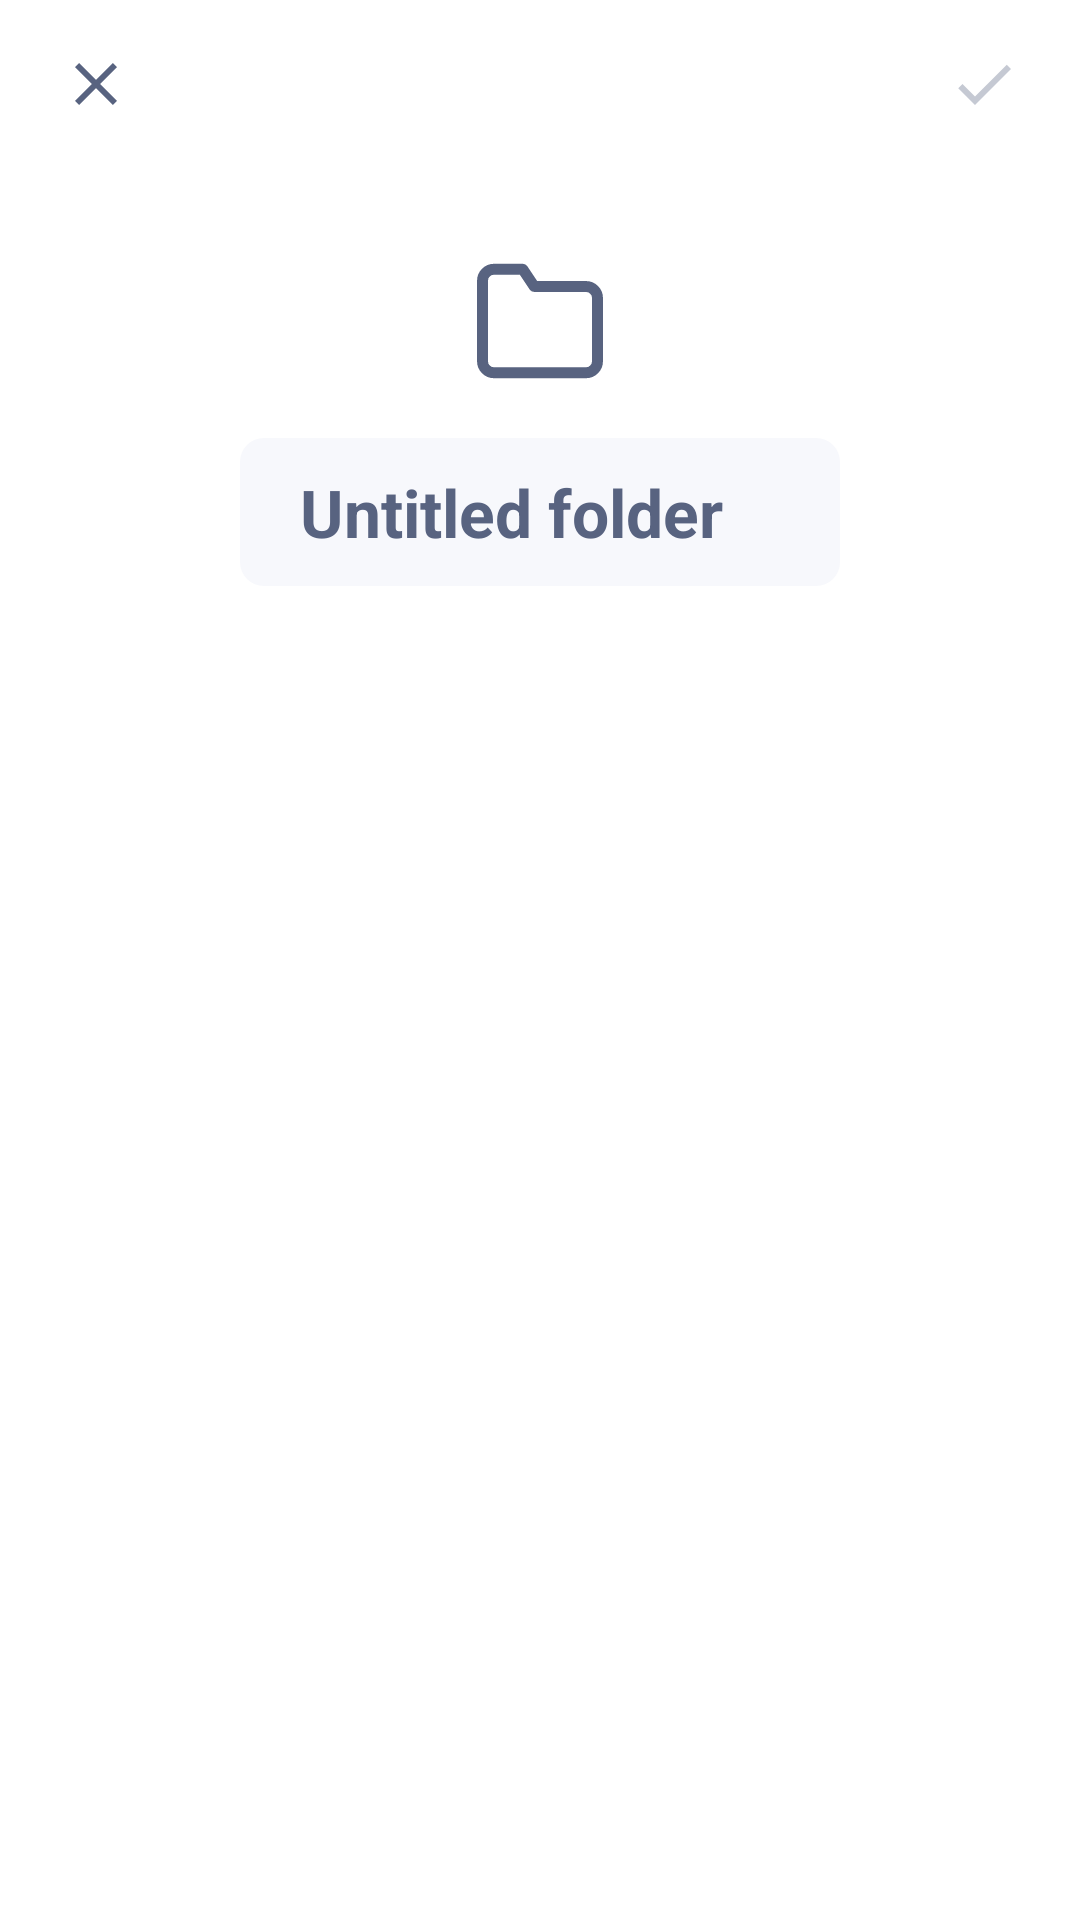

Icon bounding boxes for this 1080 × 1920 phone screenshot, format (x1, y1, x2, y2):
Close: (75, 63, 117, 105)
Save folder: (958, 65, 1011, 105)
